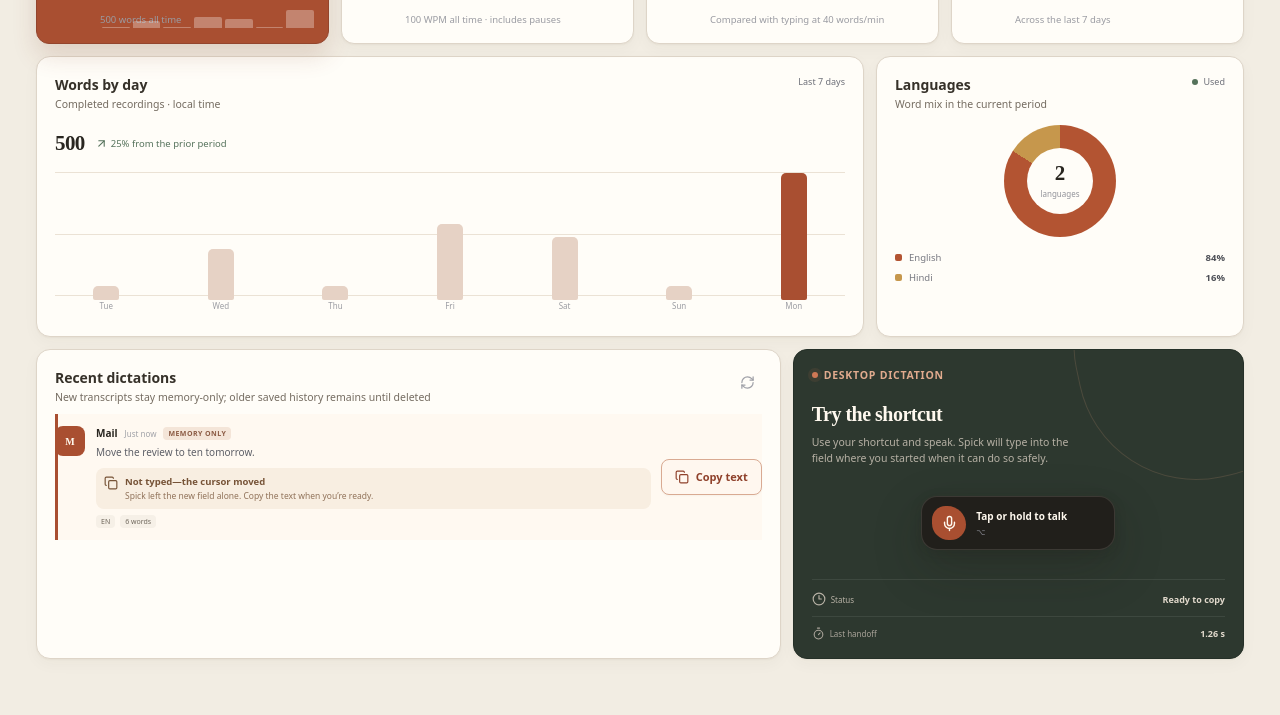
local usage and transcript history › shows the last processing breakdown without exposing content metadata
(page scrolled)
Expected: the text "1.26 s" is shown, [1200, 627, 1225, 640]
What coordinates should you click on to do the following:
click the text "Last handoff"
I would click on:
 (844, 634)
Its box is [812, 627, 877, 640].
(page scrolled)
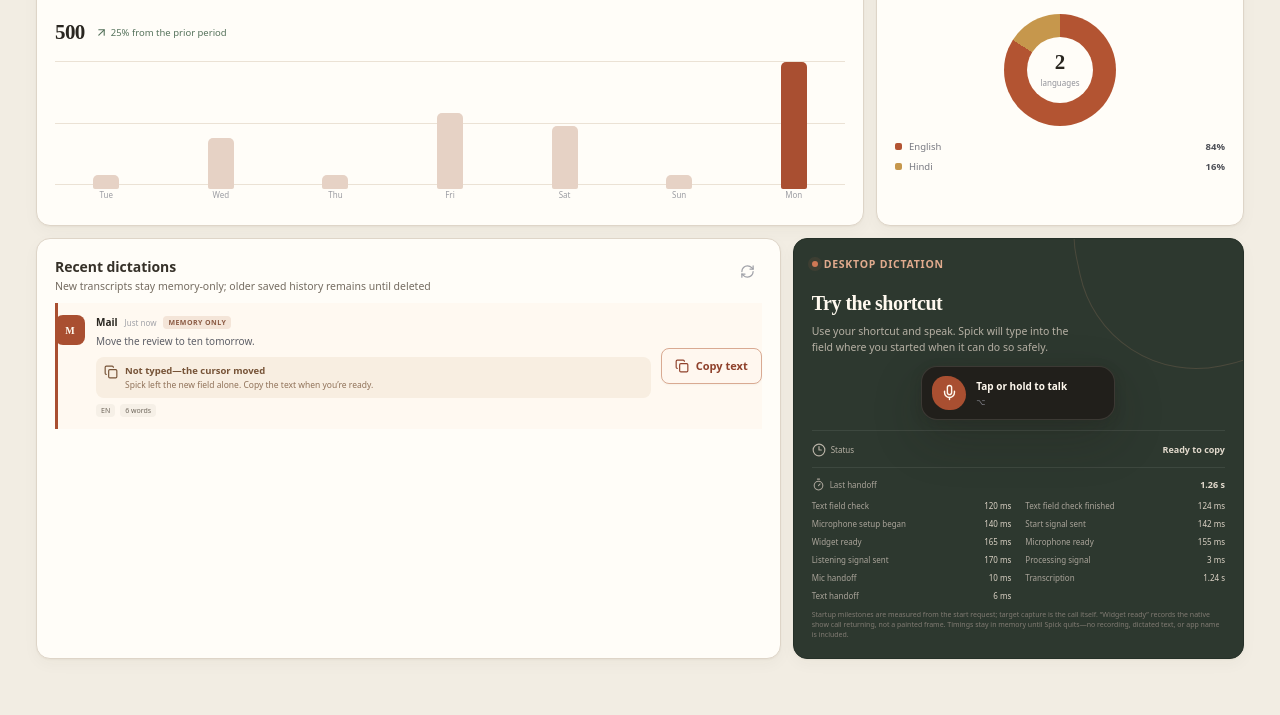
Expected: the text "Text field check" is shown, [812, 500, 869, 511]
Expected: the text "Widget ready" is shown, [812, 536, 862, 547]
Expected: the text "Microphone ready" is shown, [1025, 536, 1094, 547]
